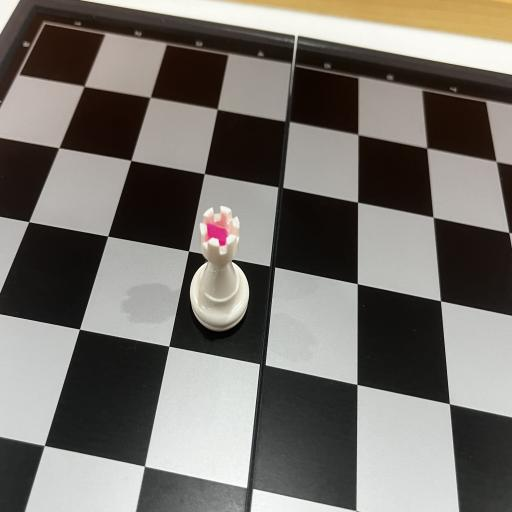White rook: (190, 205, 250, 331)
